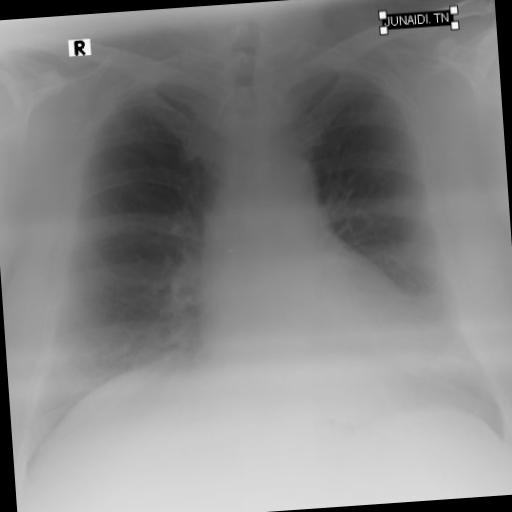kardiomegali: (0, 14, 512, 475)
